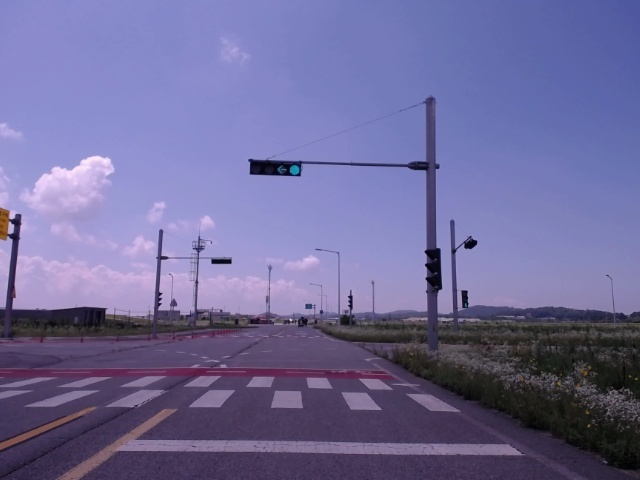all_green_4: (251, 161, 304, 175)
